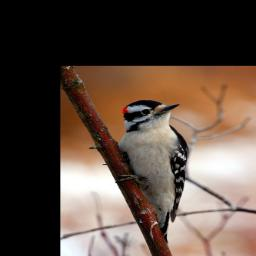Woodpecker: (114, 100, 188, 244)
